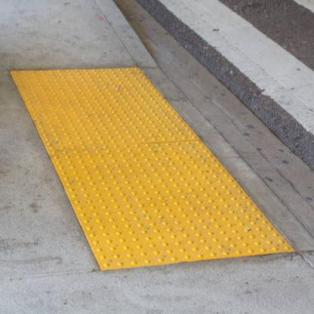Podoctatil: (10, 66, 297, 272)
